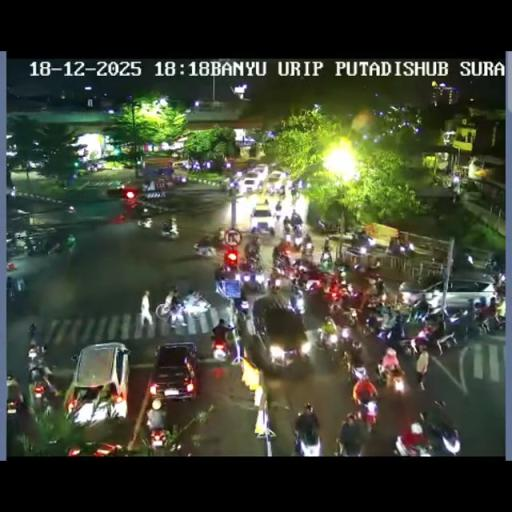Car: (64, 342, 130, 426), (244, 299, 310, 374), (402, 277, 496, 316), (148, 342, 199, 402), (66, 439, 125, 455), (250, 204, 275, 234), (6, 375, 24, 413), (107, 183, 140, 200), (235, 175, 262, 194), (265, 170, 287, 193), (250, 163, 268, 180), (172, 160, 190, 170)
Motorcycle: (312, 321, 459, 453), (207, 207, 323, 299), (419, 406, 460, 456), (156, 290, 210, 321), (318, 312, 356, 354), (294, 404, 320, 454), (410, 322, 446, 356), (146, 403, 167, 449), (381, 316, 408, 351), (28, 370, 51, 411), (458, 306, 484, 341), (238, 261, 266, 293), (382, 358, 406, 394), (336, 430, 366, 456), (325, 277, 350, 304), (363, 310, 386, 338), (360, 400, 379, 432), (210, 331, 230, 361), (293, 255, 317, 280), (268, 267, 289, 294), (348, 360, 370, 385), (139, 290, 154, 326), (289, 284, 305, 313), (389, 239, 414, 257), (233, 294, 250, 320), (193, 240, 217, 258), (159, 220, 180, 240), (332, 260, 351, 282), (355, 230, 375, 250), (486, 252, 504, 274), (490, 310, 506, 334), (303, 274, 322, 293), (319, 246, 333, 269), (11, 234, 28, 252), (245, 242, 260, 262), (214, 263, 228, 284), (291, 228, 304, 250), (212, 228, 226, 247), (301, 238, 314, 258), (366, 254, 382, 270), (278, 252, 292, 270), (26, 344, 40, 362), (492, 278, 506, 296), (26, 237, 39, 254), (462, 249, 474, 267), (46, 241, 61, 255), (290, 210, 302, 227), (374, 278, 384, 298), (136, 215, 151, 228), (283, 222, 293, 240), (6, 282, 16, 300), (27, 322, 36, 340), (220, 178, 229, 193), (290, 191, 298, 207), (227, 184, 236, 198), (450, 188, 458, 203), (274, 209, 282, 223), (66, 204, 76, 214), (86, 162, 96, 172), (178, 174, 186, 184), (10, 188, 15, 197)
